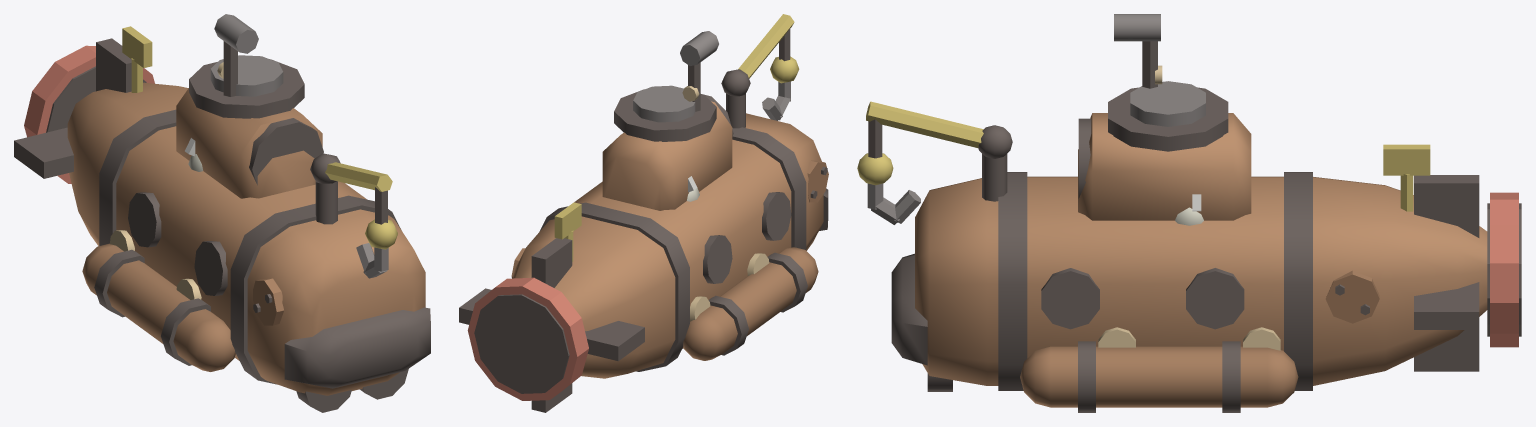
Rendered from submarines_WreckDiver.glb.
3 views of the same model, side by side, from view 1: azimuth 30°, elevation 25°; view 2: azimuth 150°, elevation 25°; view 3: azimuth 270°, elevation 25° (orthographic). The views are drawn at different scales.
Parts seen in each view (by area): view 1: Hull, Hull_Glow; view 2: Hull, Hull_Glow; view 3: Hull, Hull_Glow.
Part boxes in pixels (x1,y1,x2,y2): Hull: [14, 14, 430, 412]; Hull_Glow: [110, 62, 223, 299]; Hull: [459, 14, 828, 412]; Hull_Glow: [682, 86, 769, 321]; Hull: [857, 14, 1521, 412]; Hull_Glow: [1098, 65, 1280, 350].
Bounding box in the file's own units: 16.6 × 21.12 × 36.75.
